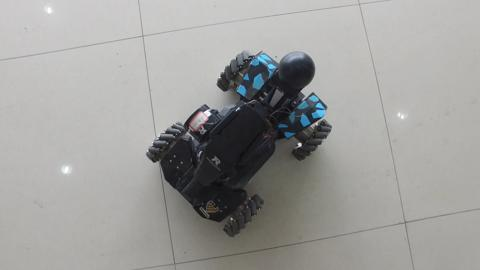chariot: (142, 32, 335, 234)
